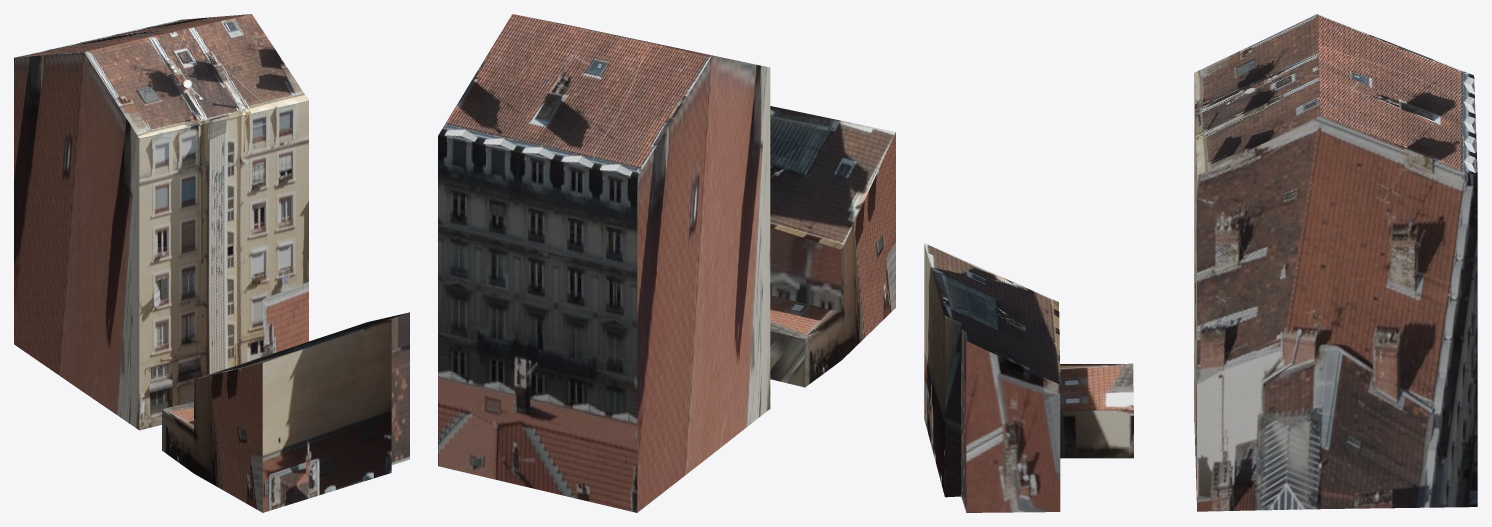
The picture shows the model from 3 angles, left to right: view 1: azimuth 30°, elevation 25°; view 2: azimuth 150°, elevation 25°; view 3: azimuth 270°, elevation 25°; orthographic projection. The views are drawn at different scales.
Parts seen in each view (by area): view 1: Z_UP; view 2: Z_UP; view 3: Z_UP.
Part boxes in pixels (box(x1,y1,x2,y2)): Z_UP: box(14, 14, 409, 512); Z_UP: box(438, 14, 895, 512); Z_UP: box(924, 14, 1477, 512).
Size of the model in its own units: 15.38 by 27.95 by 35.19.
2 materials, 1 textured.
